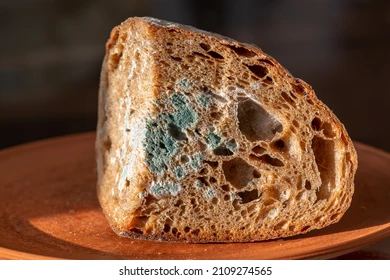mold_bread: (138, 92, 197, 149), (141, 152, 202, 177), (203, 130, 240, 154), (140, 182, 182, 201), (200, 92, 215, 112), (175, 76, 196, 89), (229, 190, 241, 202), (206, 187, 217, 198), (249, 80, 260, 91), (194, 180, 202, 189)
